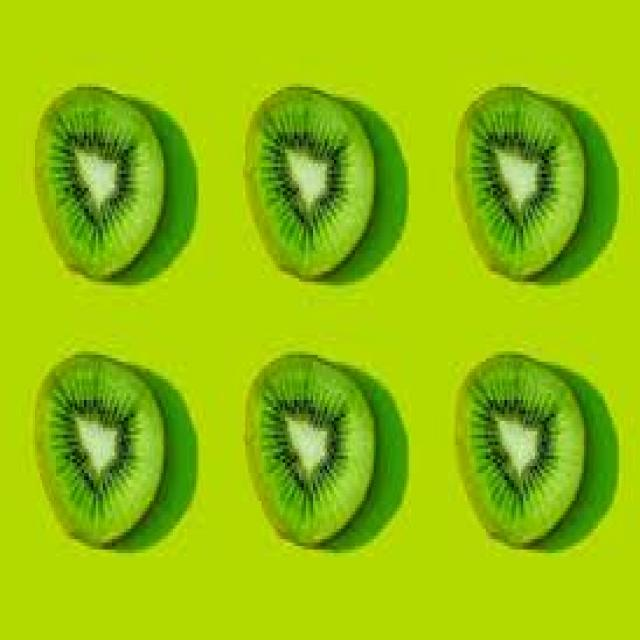kiwi: (446, 80, 596, 289), (446, 348, 593, 549), (28, 84, 173, 285), (30, 348, 173, 549), (240, 83, 380, 282), (243, 348, 381, 549)
